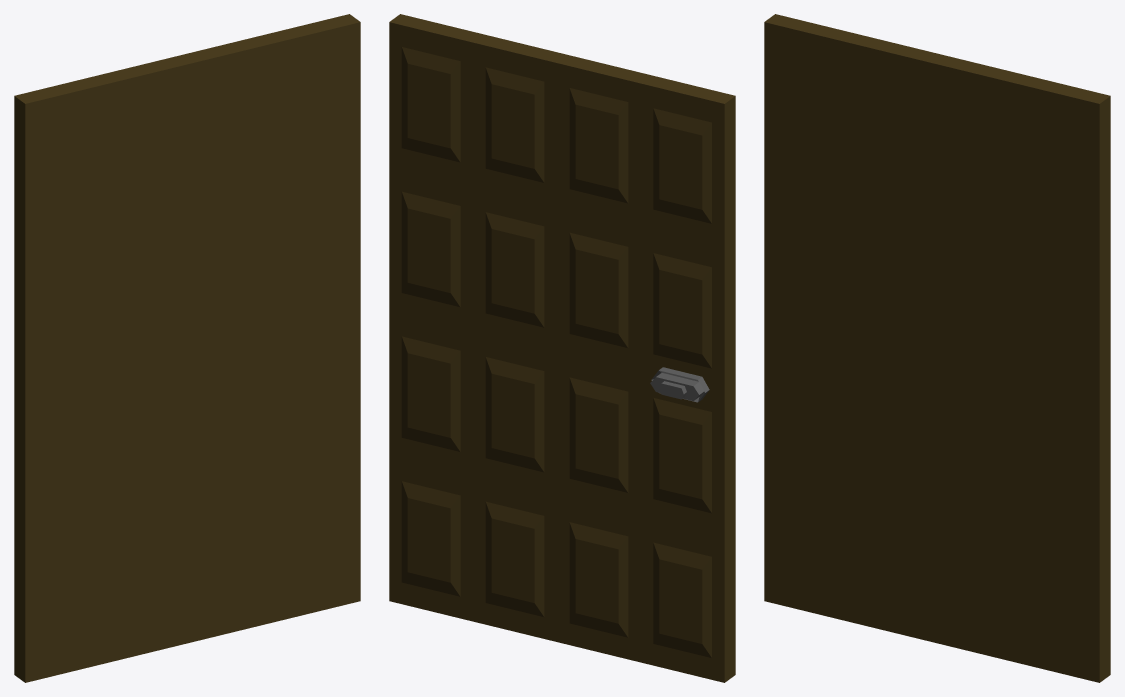
The model's file is SteelDoor_Material.fbx.
3 views of the same model, side by side, from view 1: azimuth 30°, elevation 25°; view 2: azimuth 150°, elevation 25°; view 3: azimuth 330°, elevation 25° (orthographic).
Visible parts, largest first — view 1: SteelDoor; view 2: SteelDoor; view 3: SteelDoor.
Boxes of the visible parts, x1=… form: SteelDoor: x1=14, y1=14, x2=360, y2=682; SteelDoor: x1=389, y1=14, x2=735, y2=682; SteelDoor: x1=764, y1=14, x2=1110, y2=682.
Bounding box in the file's own units: 0.9114 × 1.5 × 0.1052.
